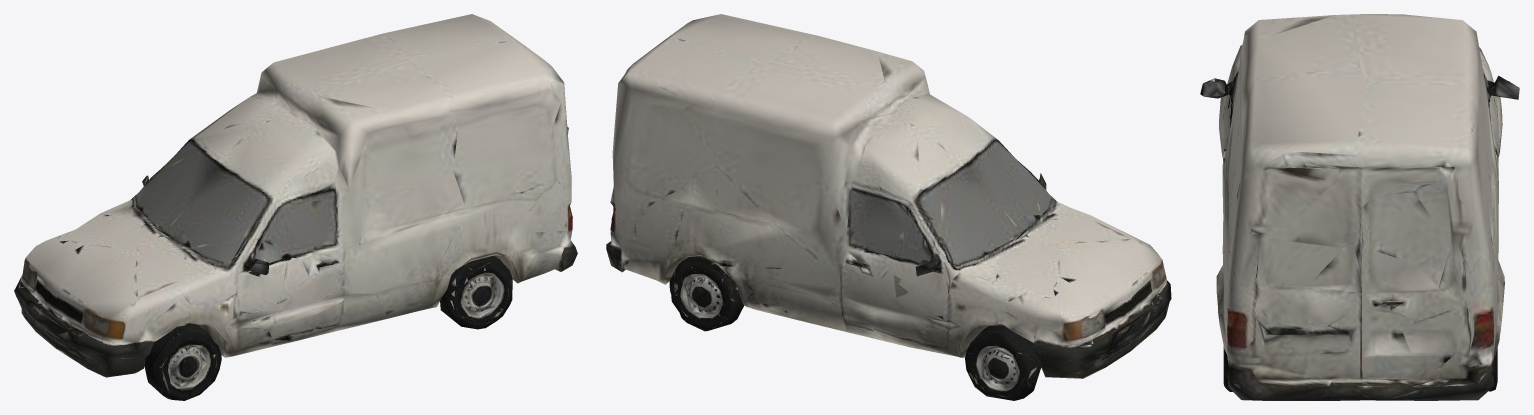
File: fourgon.glb
The picture shows the model from 3 angles, left to right: view 1: azimuth 30°, elevation 25°; view 2: azimuth 150°, elevation 25°; view 3: azimuth 270°, elevation 25°; orthographic projection. The views are drawn at different scales.
Bounding box in the file's own units: 1.9 × 0.8858 × 0.8485.
1 material, 1 textured.
